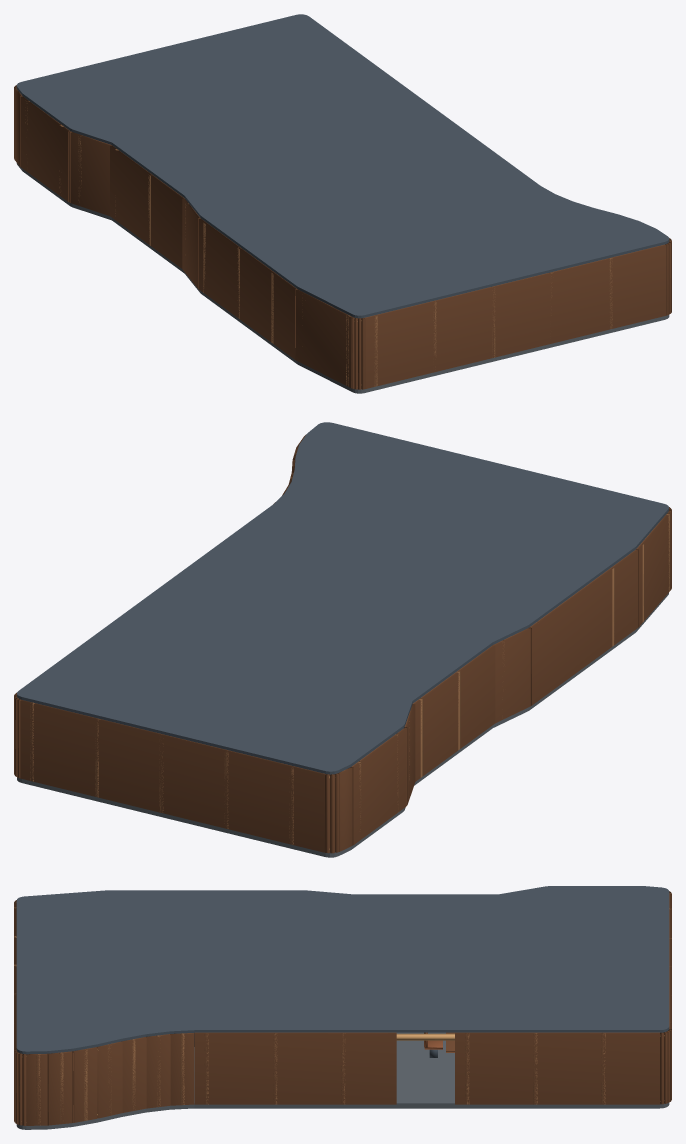
File: Captains_Quarters.glb
The picture shows the model from 3 angles, top to bottom: view 1: azimuth 30°, elevation 25°; view 2: azimuth 150°, elevation 25°; view 3: azimuth 270°, elevation 25°; orthographic projection. The views are drawn at different scales.
Visible parts, largest first — view 1: Ceiling_panel, Wall (×7), Captains_Quarters_floor; view 2: Ceiling_panel, Wall (×8), Captains_Quarters_floor; view 3: Ceiling_panel, Wall (×11), Captains_Quarters_floor, Door_header.
Part boxes in pixels (x1,y1,x2,y2): Ceiling_panel: (16,14,669,318); Wall (×7): (20,96,666,388); Captains_Quarters_floor: (16,163,669,393); Ceiling_panel: (17,422,668,774); Wall (×8): (20,512,671,852); Captains_Quarters_floor: (17,593,668,857); Ceiling_panel: (16,886,669,1054); Wall (×11): (14,894,671,1125); Captains_Quarters_floor: (16,1032,669,1129); Door_header: (396,1033,454,1040).
Size of the model in its own units: 16.3 by 3.55 by 27.02.
